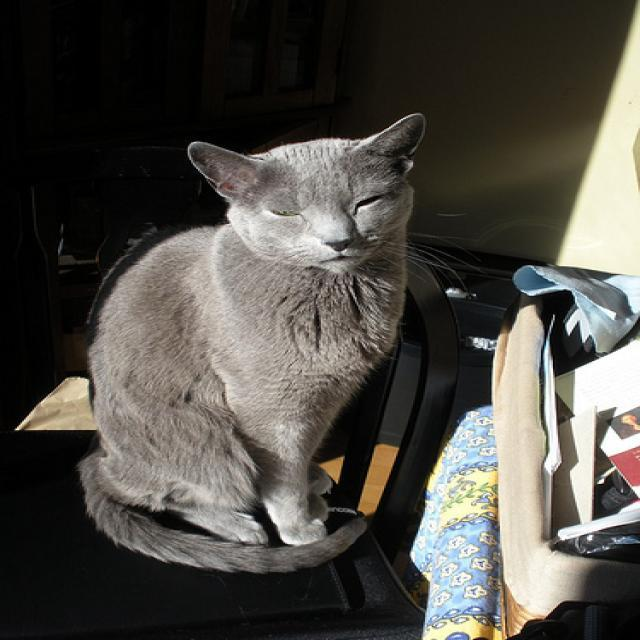Russian_Blue: (182, 108, 437, 277)
